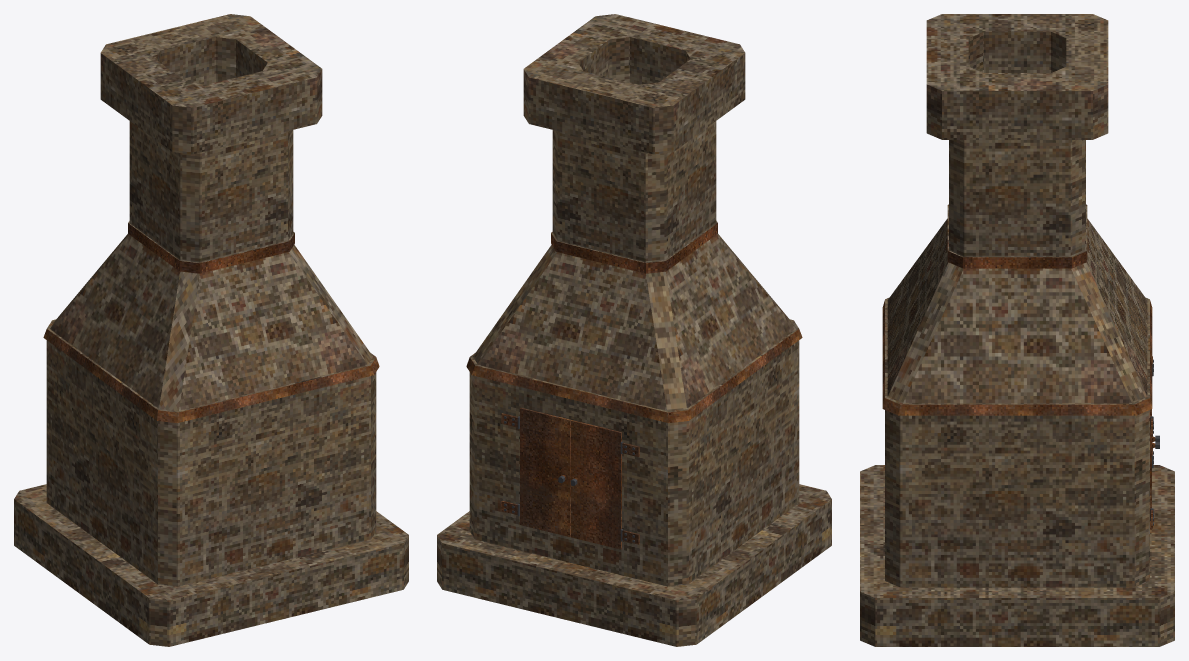
Rendered from GD 3D Forge 1 Stone  n Rust.fbx.
3 views of the same model, side by side, from view 1: azimuth 30°, elevation 25°; view 2: azimuth 150°, elevation 25°; view 3: azimuth 270°, elevation 25° (orthographic). The views are drawn at different scales.
Visible parts, largest first — view 1: Forge Basic 3IVG 3D; view 2: Forge Basic 3IVG 3D; view 3: Forge Basic 3IVG 3D.
Part boxes in pixels (x1,y1,x2,y2): Forge Basic 3IVG 3D: [14, 14, 408, 646]; Forge Basic 3IVG 3D: [437, 14, 831, 646]; Forge Basic 3IVG 3D: [860, 14, 1174, 646].
Size of the model in its own units: 238 by 440 by 238.
